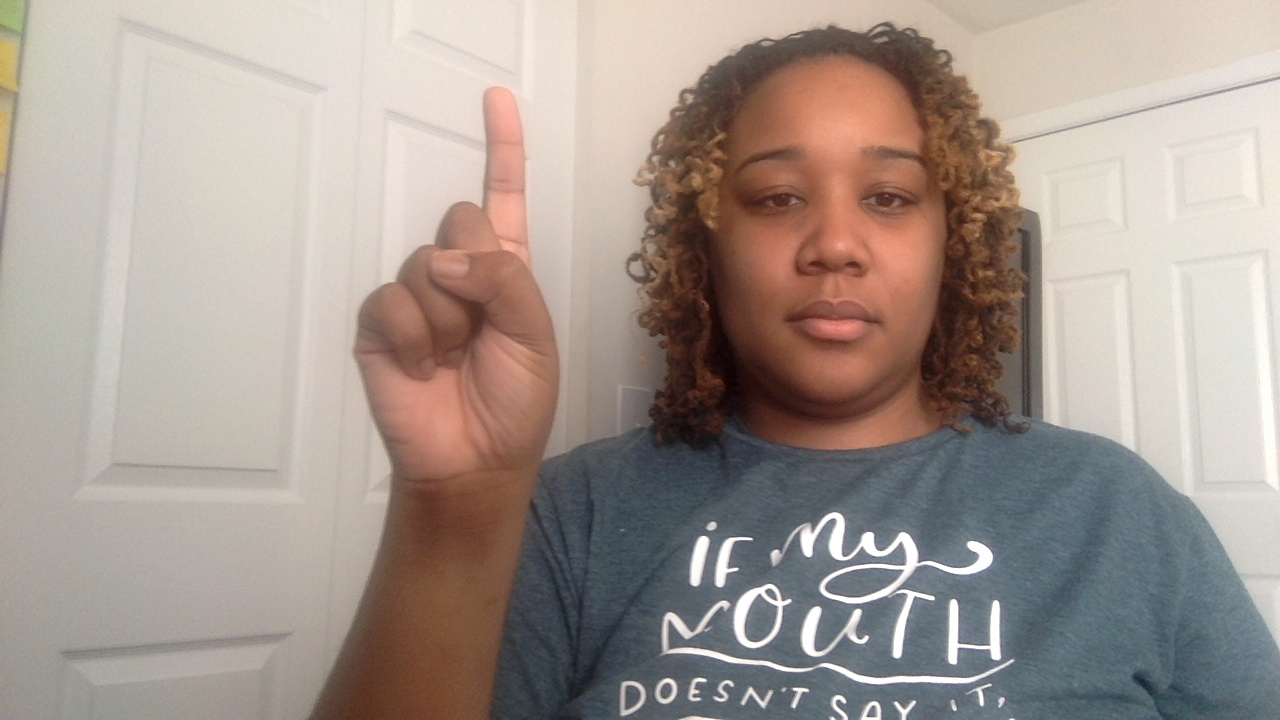up: (303, 81, 580, 720)
